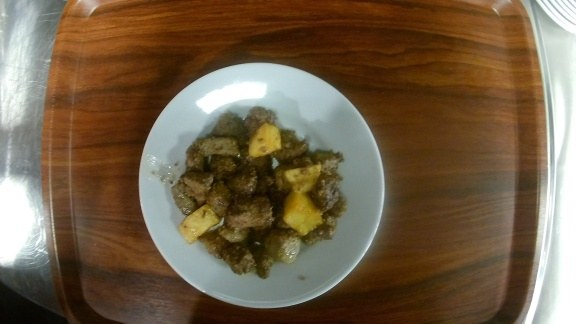arnavutcigeri: (138, 61, 386, 309)
